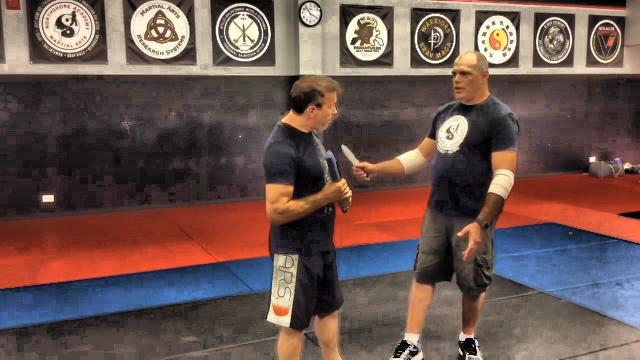knife: (339, 141, 371, 181)
